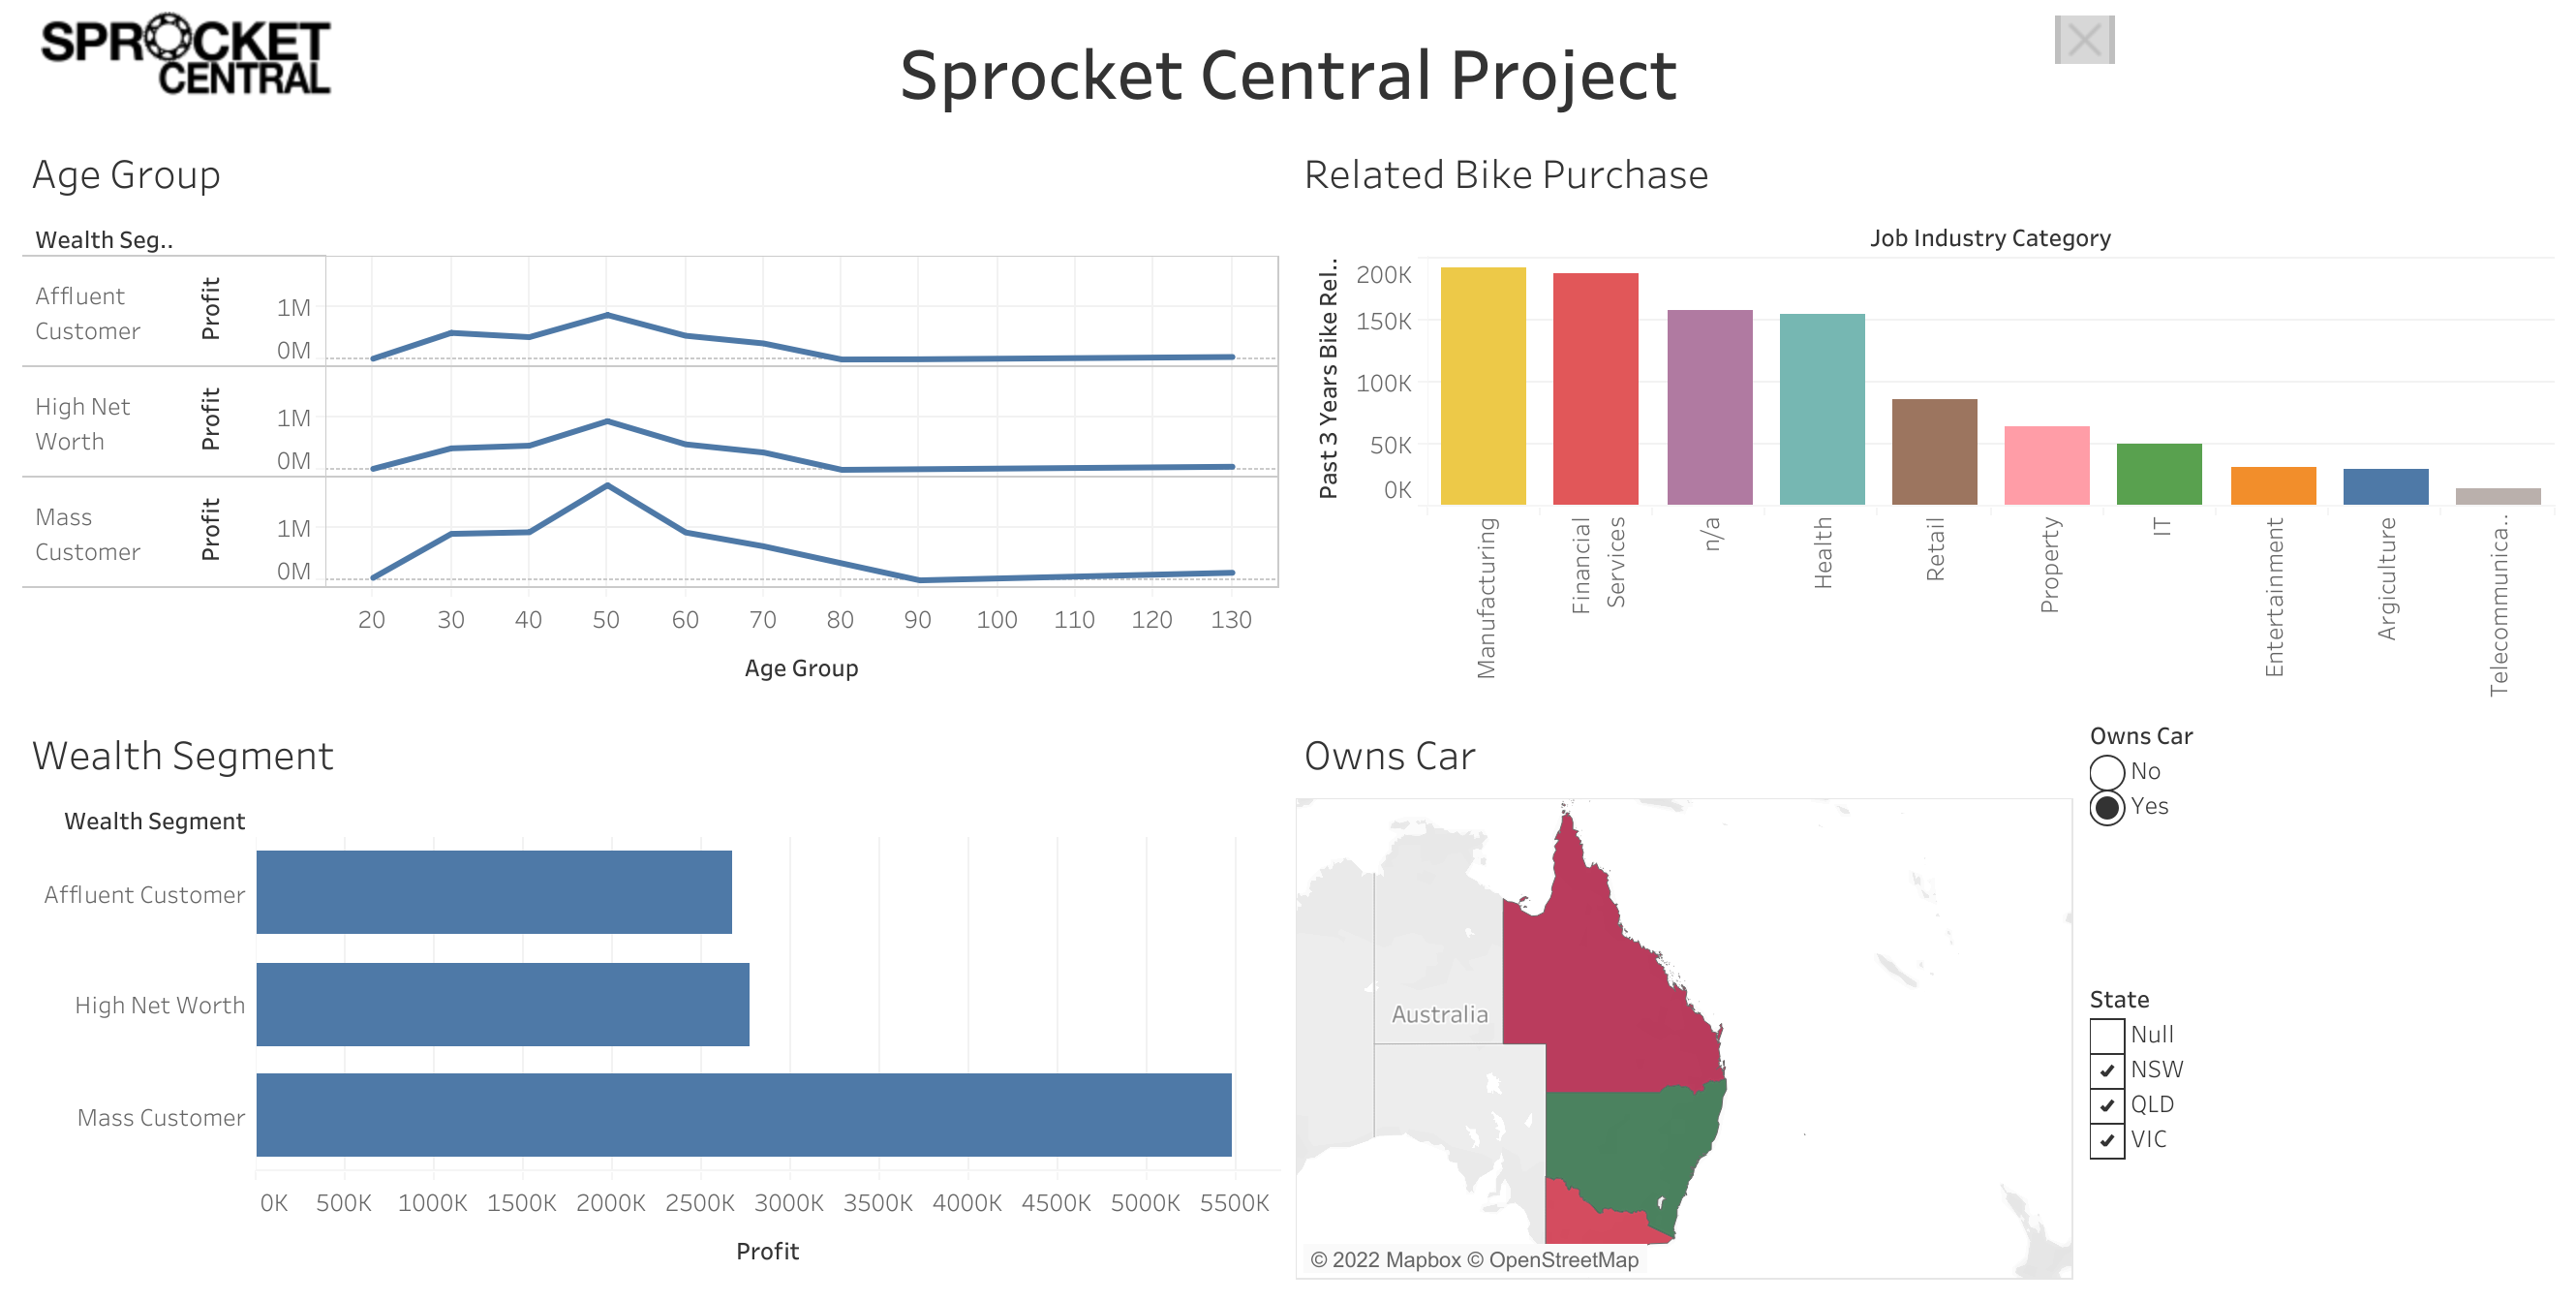

What the dashboard file says about the page in this screenshot:
{"tool":"tableau","page":{"name":"Dashboard 1","canvas":[1000,1000],"units":"permille","ordinal":0},"visuals":[{"type":"image","param":"Image/sprocket_central_logo.png","box":[15.6,9.3,271.5,77.6]},{"type":"title","box":[7.8,12.4,984.4,87]},{"type":"dashboard-object","box":[796.9,12.4,23.4,37.3]},{"type":"worksheet","title":"Age Group","mark":"Automatic","rows":["wealth_segment","profit"],"cols":["Age Group"],"box":[7.8,99.4,492.2,444]},{"type":"worksheet","title":"Related Bike Purchase","mark":"Bar","rows":["past_3_years_bike_related_purchases"],"cols":["job_industry_category"],"box":[500,99.4,492.2,444.1]},{"type":"worksheet","title":"Wealth Segment","mark":"Automatic","rows":["wealth_segment"],"cols":["profit"],"box":[7.8,543.4,492.2,444.2]},{"type":"worksheet","title":"Owns Car","mark":"Automatic","box":[500,543.5,306.4,444.1]},{"type":"filter","title":"Owns Car","param":"[federated.1ny3tuv1rf3hzc1emfzsi1e108es].[none:owns_car:nk]","box":[806.4,543.5,185.8,201.9]},{"type":"filter","title":"Owns Car","param":"[federated.1ny3tuv1rf3hzc1emfzsi1e108es].[none:state:nk]","box":[806.4,745.4,185.8,242.2]}]}

Visuals, with their boxes on the dashboard's canvas, which has no fixed pixel size, in thousandths of its width and height (x1, y1, x2, y2). These are canvas units, not pixel positions in the 2576x1302 screenshot, which may show the page scaled, cropped or inside an application window:
image: bbox(16, 9, 287, 87)
title: bbox(8, 12, 992, 99)
dashboard-object: bbox(797, 12, 820, 50)
"Age Group" worksheet: bbox(8, 99, 500, 543)
"Related Bike Purchase" worksheet (Bar marks): bbox(500, 99, 992, 544)
"Wealth Segment" worksheet: bbox(8, 543, 500, 988)
"Owns Car" worksheet: bbox(500, 544, 806, 988)
"Owns Car" filter: bbox(806, 544, 992, 745)
"Owns Car" filter: bbox(806, 745, 992, 988)
